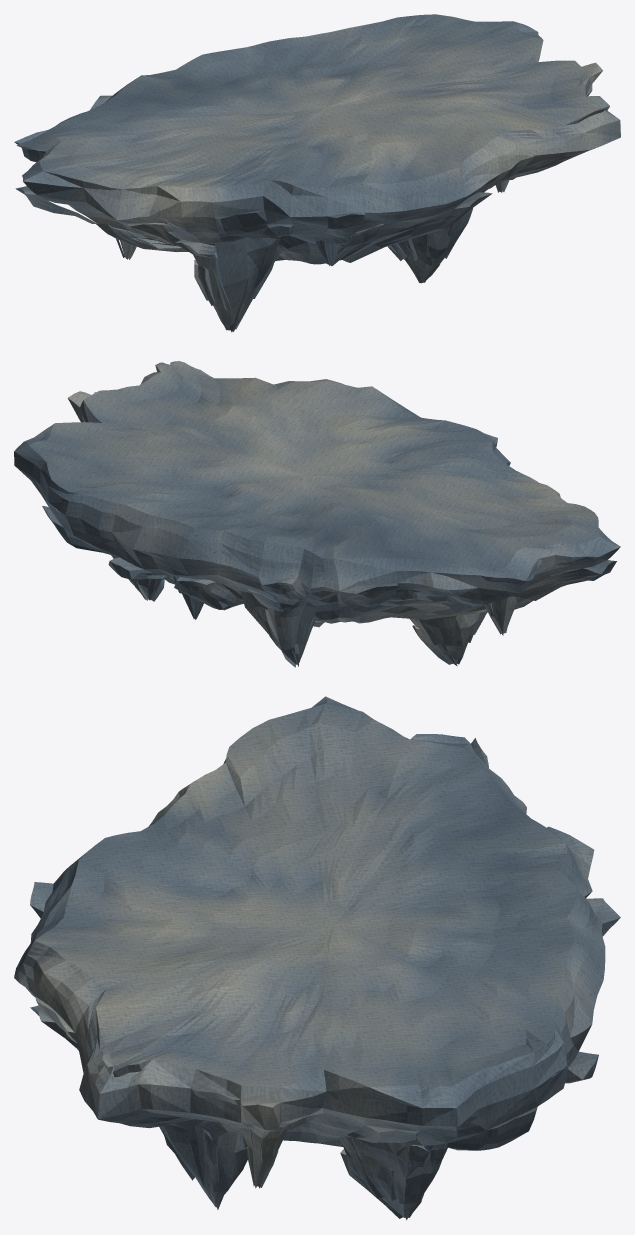
3 views of the same model, one above another, from view 1: azimuth 30°, elevation 25°; view 2: azimuth 150°, elevation 25°; view 3: azimuth 270°, elevation 25° (orthographic). The views are drawn at different scales.
Parts seen in each view (by area): view 1: F01_stone; view 2: F01_stone; view 3: F01_stone.
Part boxes in pixels (x1,y1,x2,y2): F01_stone: [14, 14, 620, 332]; F01_stone: [14, 361, 620, 667]; F01_stone: [14, 696, 620, 1220].
Size of the model in its own units: 83.28 by 26.49 by 52.65.
1 material, 1 textured.
